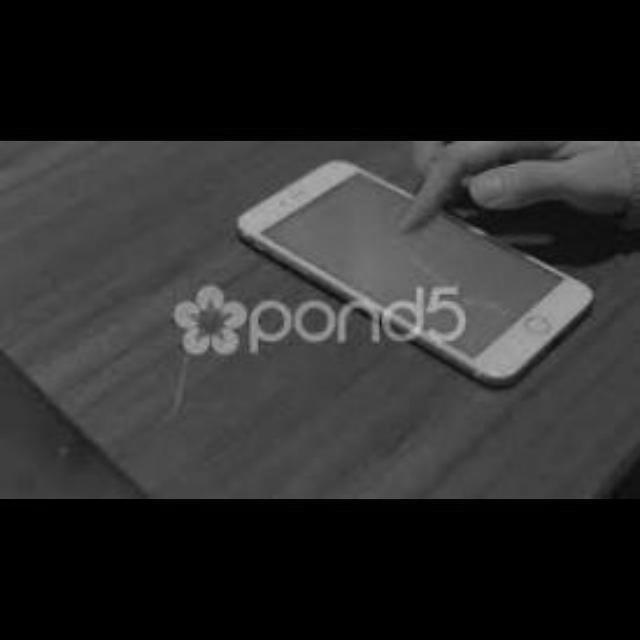fake: (209, 142, 613, 390)
